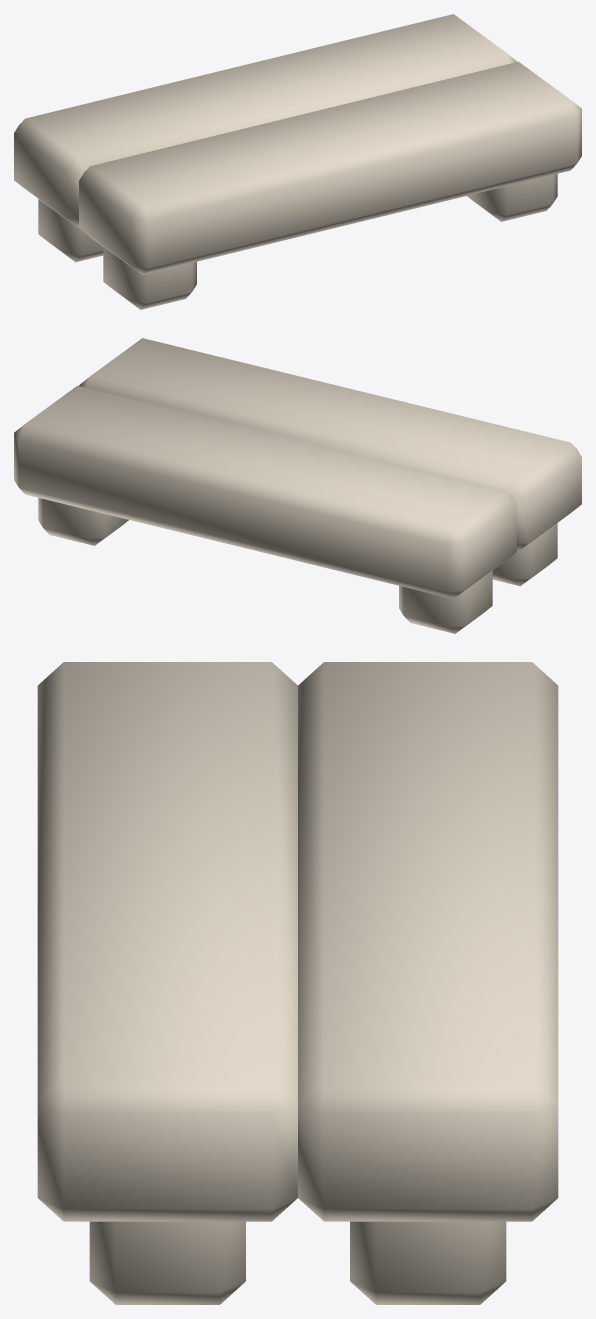
File: bench_B.glb
3 renders of one model, top to bottom at view 1: azimuth 30°, elevation 25°; view 2: azimuth 150°, elevation 25°; view 3: azimuth 270°, elevation 25°, orthographic. The views are drawn at different scales.
Visible parts, largest first — view 1: bench_B; view 2: bench_B; view 3: bench_B.
Part boxes in pixels (<box>): bench_B: <box>14,14,581,309</box>; bench_B: <box>14,338,581,633</box>; bench_B: <box>37,662,558,1304</box>.
Size of the model in its own units: 2 by 0.5 by 1.
